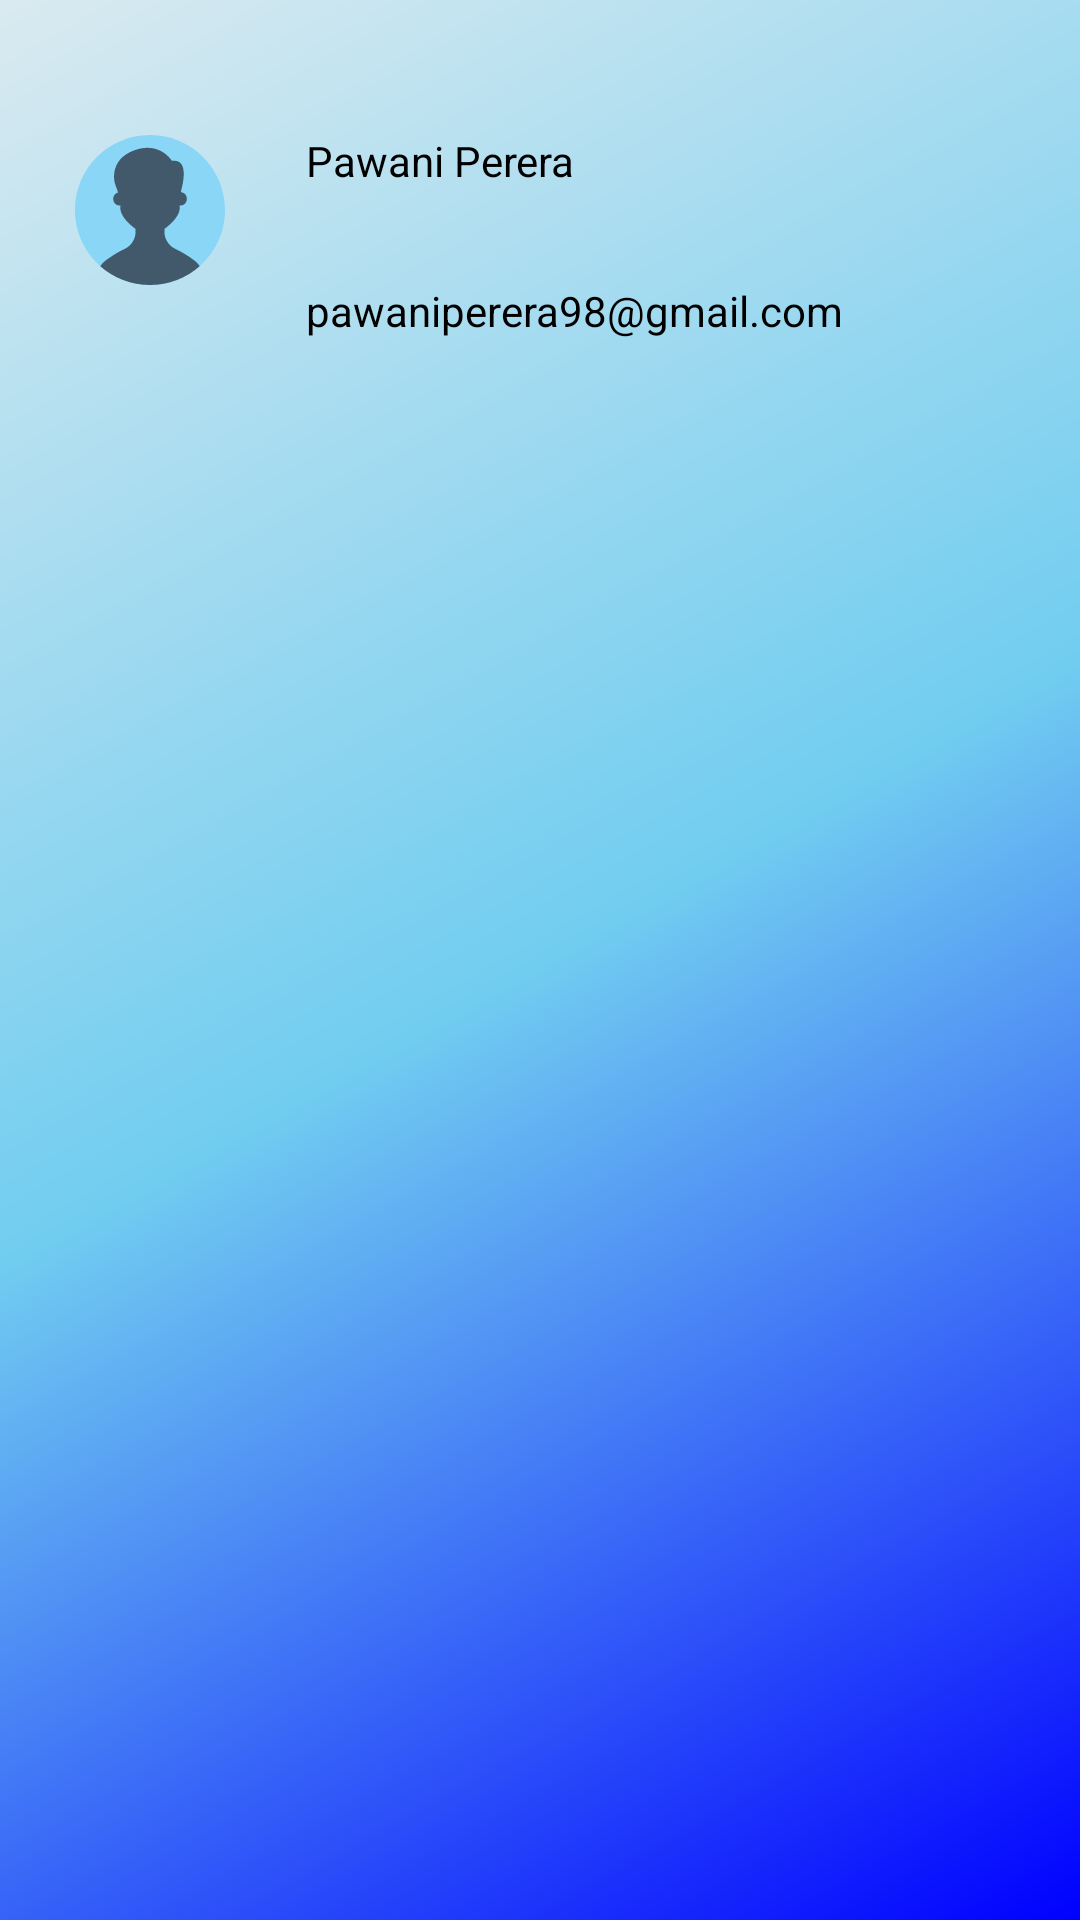

Named icons in this screenshot (1080×1920) and their centers, (x=x, y=y):
user: (x=150, y=210)
